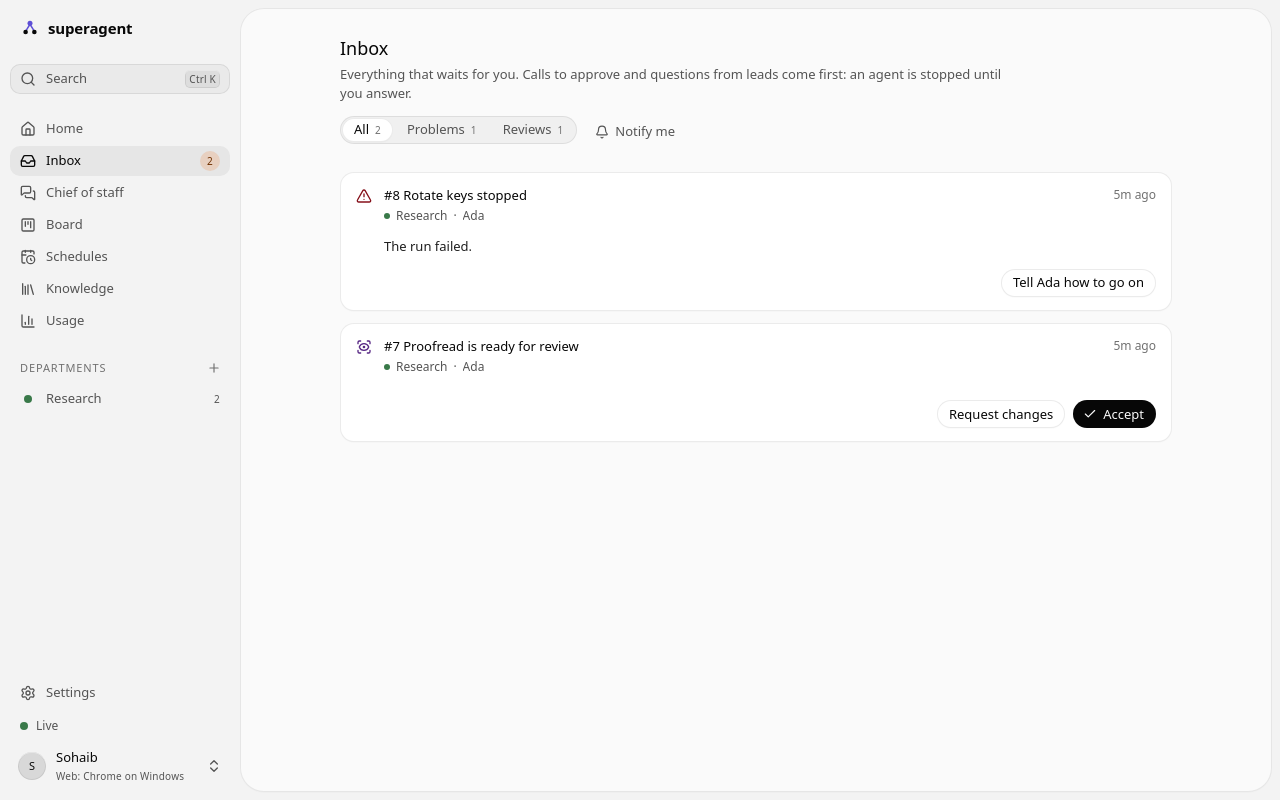
Test case: the inbox › shows one kind at a time, from the URL
Click the button "Problems 1": (442, 130) x1=395 y1=118 x2=489 y2=142
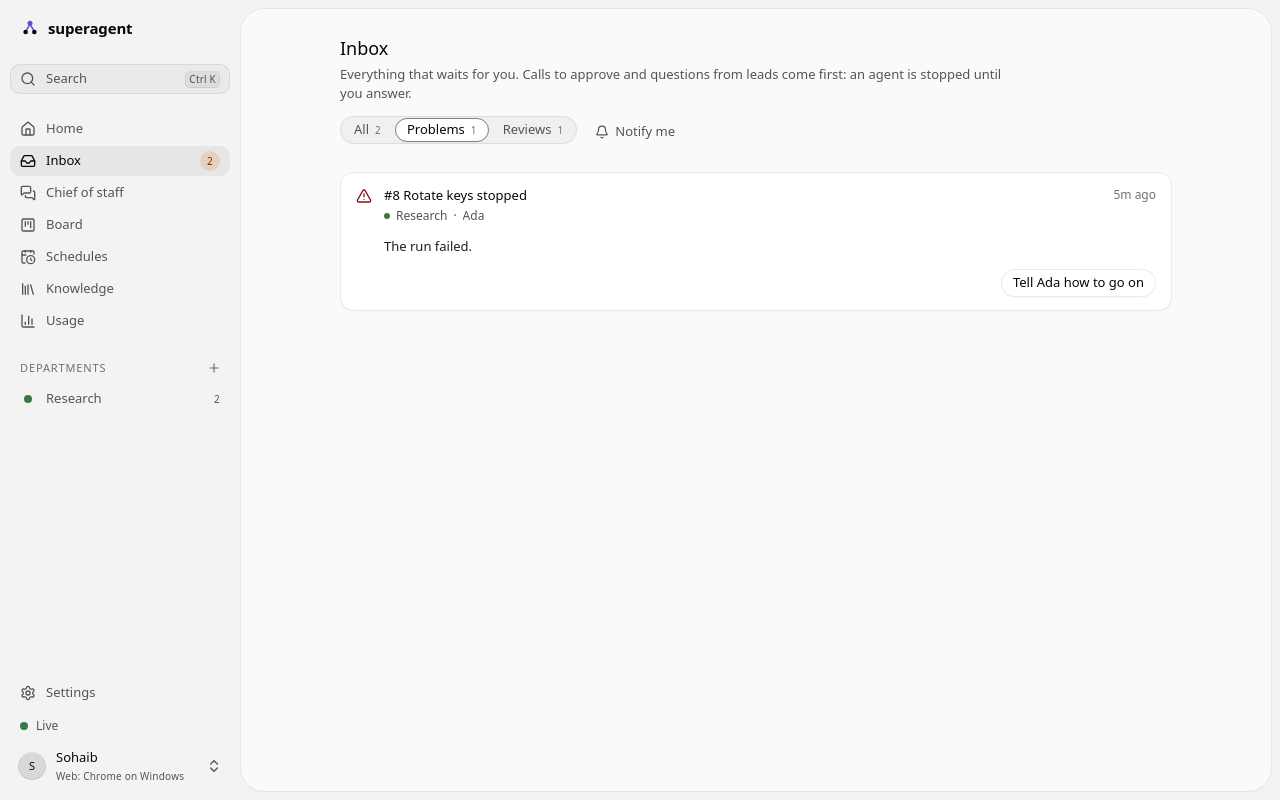
Expected: the text "The run failed." is shown, x1=384 y1=237 x2=472 y2=255
Result: the link "ready for review" is gone
